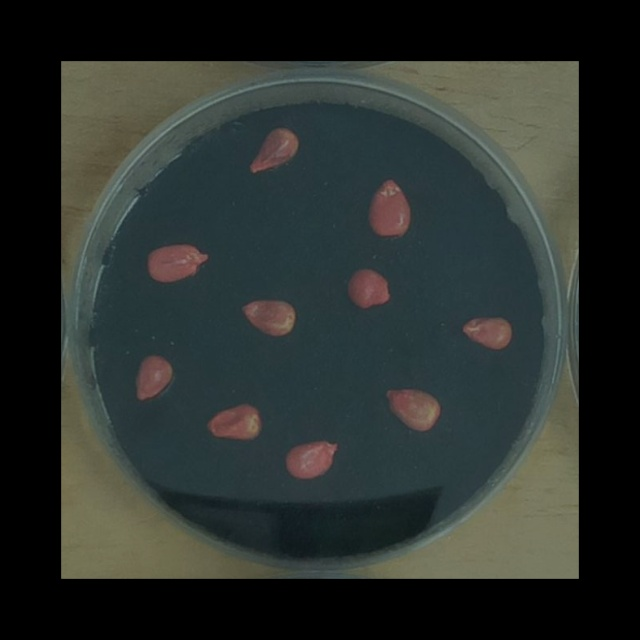Zea mays: (140, 236, 214, 288), (362, 172, 416, 243), (378, 381, 446, 437), (243, 121, 304, 179), (278, 434, 344, 484), (201, 396, 267, 446), (234, 293, 301, 342), (127, 349, 180, 406), (341, 262, 396, 313), (455, 309, 516, 354)
